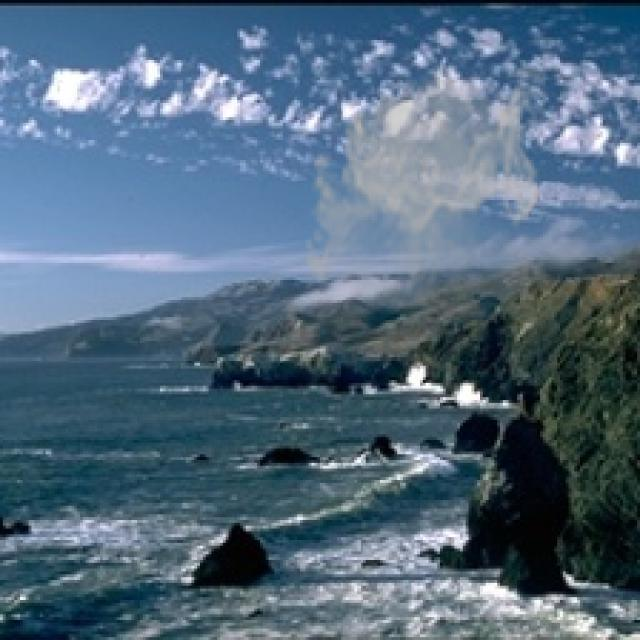Smoke: (297, 59, 546, 314)
